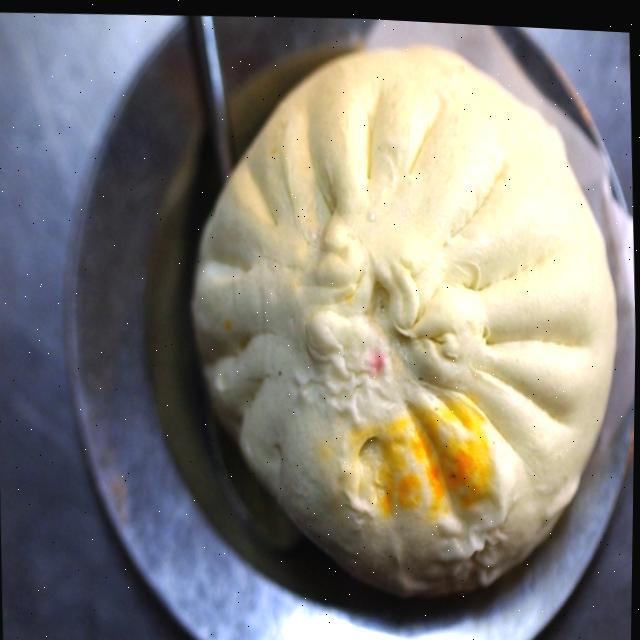带馅早点: (99, 22, 640, 640)
